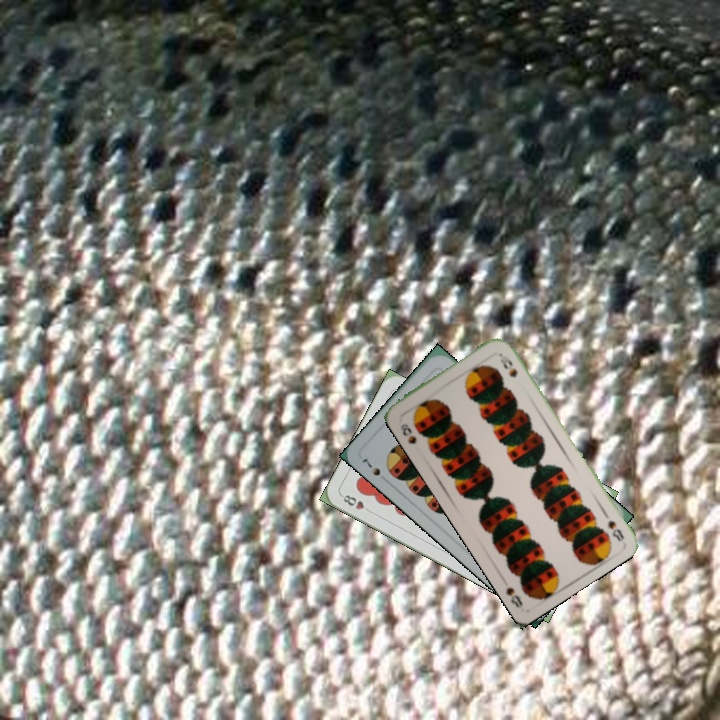H8: (338, 491, 375, 516)
S7: (358, 455, 391, 485)
S8: (599, 507, 627, 544), (396, 419, 419, 447)
